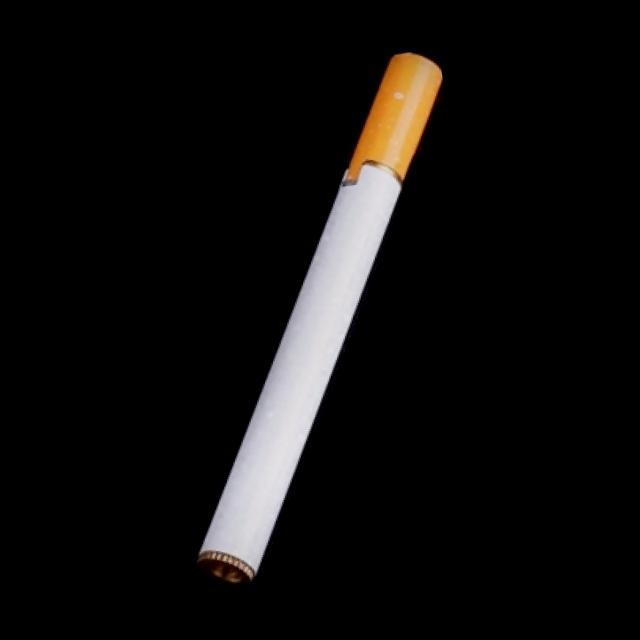cigarette: (119, 31, 525, 613)
